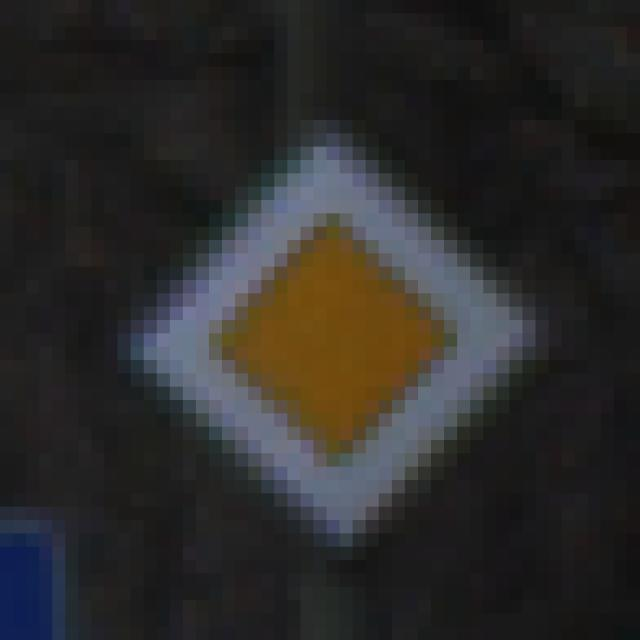Main Road: (79, 68, 576, 574)
